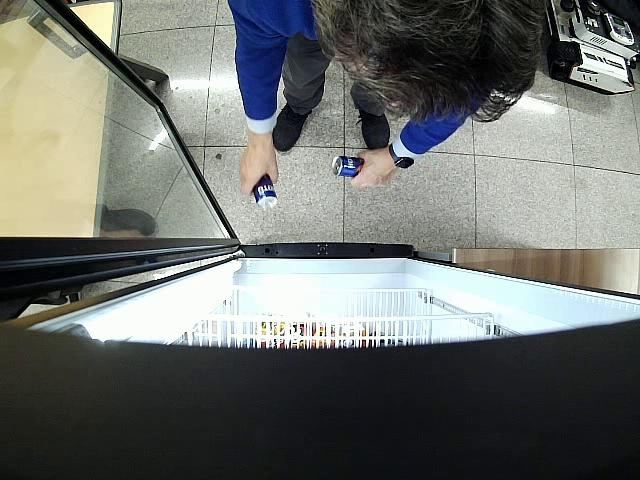00_hand: (238, 136, 278, 195), (350, 147, 389, 188)
16_hot6: (254, 176, 278, 211), (331, 155, 364, 177)
